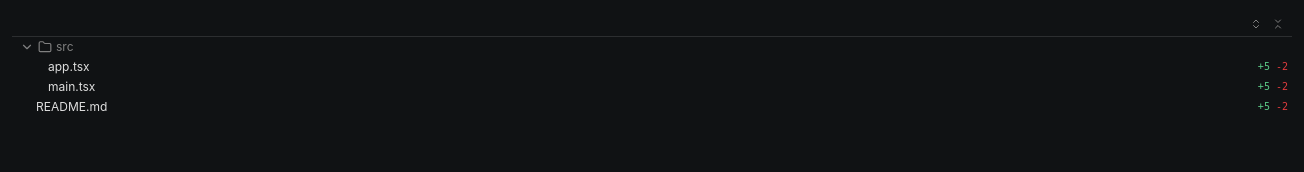
Scenario: DiffFileTree › Expand All / Collapse All in branch-base mode › should collapse all folders when Collapse All is clicked
The width and height of the screenshot is (1304, 172).
Expected: the text "app.tsx" is shown, [48,59,90,75]
Click the button named "Collapse All".
click(1278, 24)  # box [1268,14,1288,34]
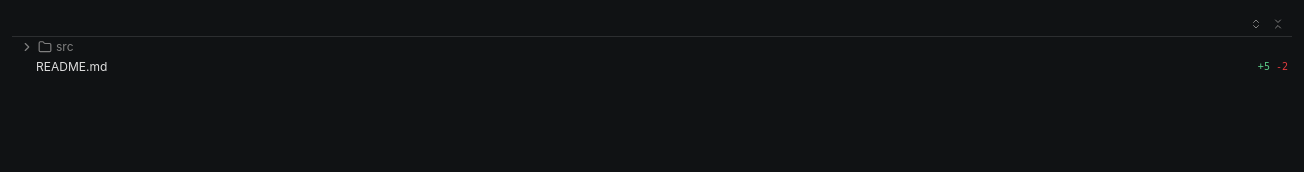
Expected: the button "app.tsx" is gone
